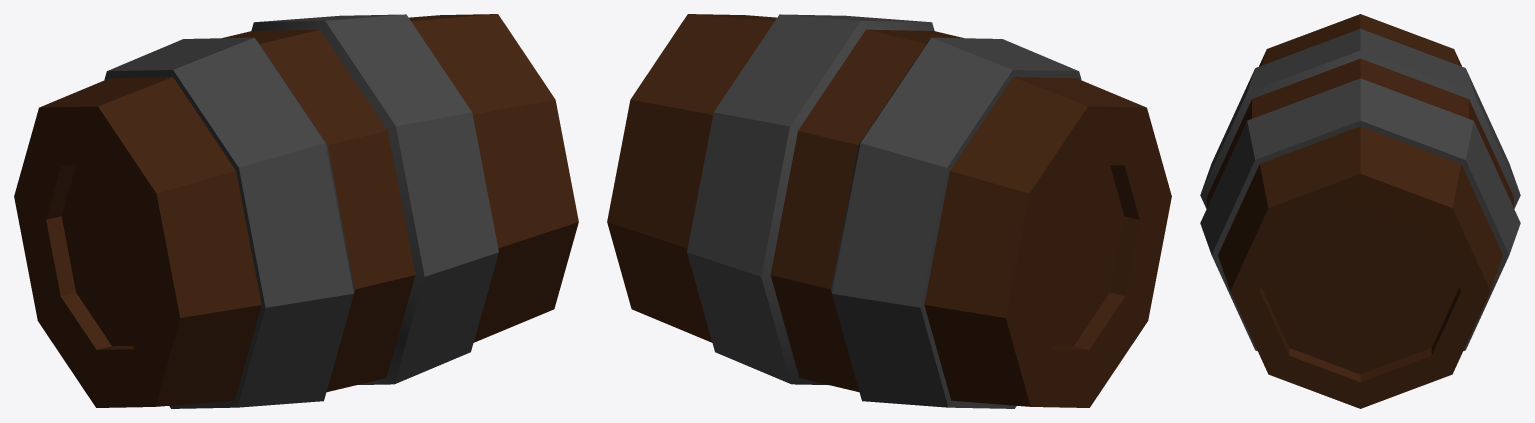
The model's file is Obstacle01.fbx.
3 renders of one model, left to right at view 1: azimuth 30°, elevation 25°; view 2: azimuth 150°, elevation 25°; view 3: azimuth 270°, elevation 25°, orthographic. The views are drawn at different scales.
Parts seen in each view (by area): view 1: BarrelD__4_; view 2: BarrelD__4_; view 3: BarrelD__4_.
Part boxes in pixels (x1,y1,x2,y2): BarrelD__4_: (14,14,578,408); BarrelD__4_: (607,14,1171,408); BarrelD__4_: (1200,14,1520,408).
Bounding box in the file's own units: 234 × 203 × 203.
